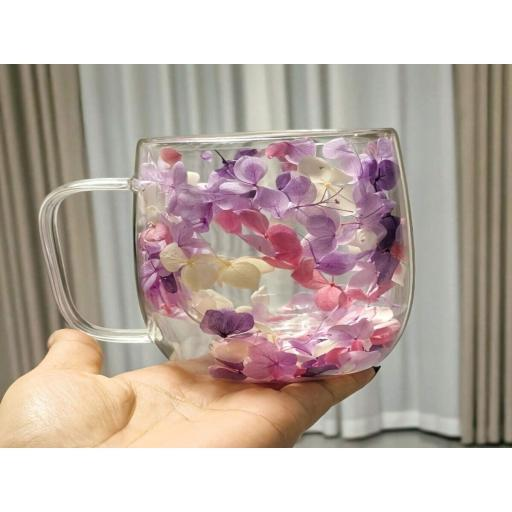cup: (40, 129, 413, 384)
